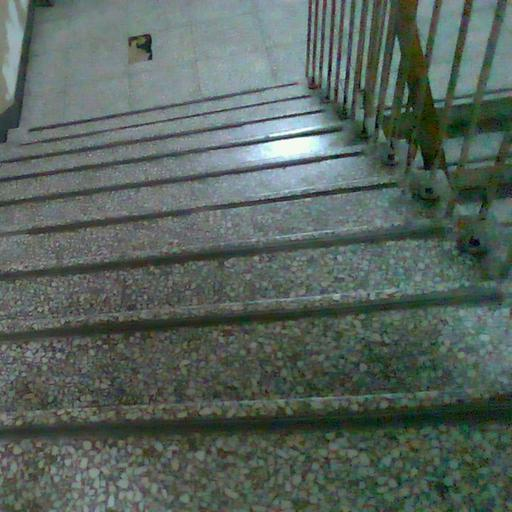stairs: (0, 84, 511, 511)
